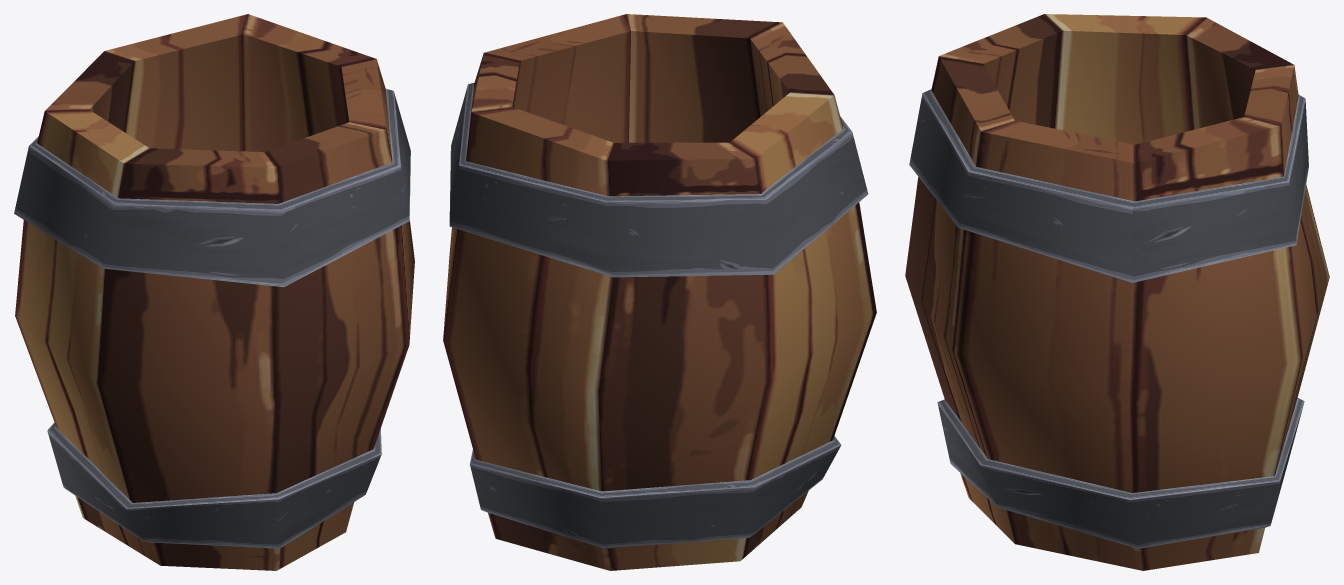
File: tonneau-2.glb
The picture shows the model from 3 angles, left to right: view 1: azimuth 30°, elevation 25°; view 2: azimuth 150°, elevation 25°; view 3: azimuth 270°, elevation 25°; orthographic projection. The views are drawn at different scales.
Parts seen in each view (by area): view 1: SM_PROP_barrel_02; view 2: SM_PROP_barrel_02; view 3: SM_PROP_barrel_02.
Part boxes in pixels (x1,y1,x2,y2): SM_PROP_barrel_02: (14, 14, 414, 570); SM_PROP_barrel_02: (443, 14, 876, 570); SM_PROP_barrel_02: (905, 14, 1329, 570).
Size of the model in its own units: 0.7706 by 0.8439 by 0.7486.
2 materials, 2 textured.
